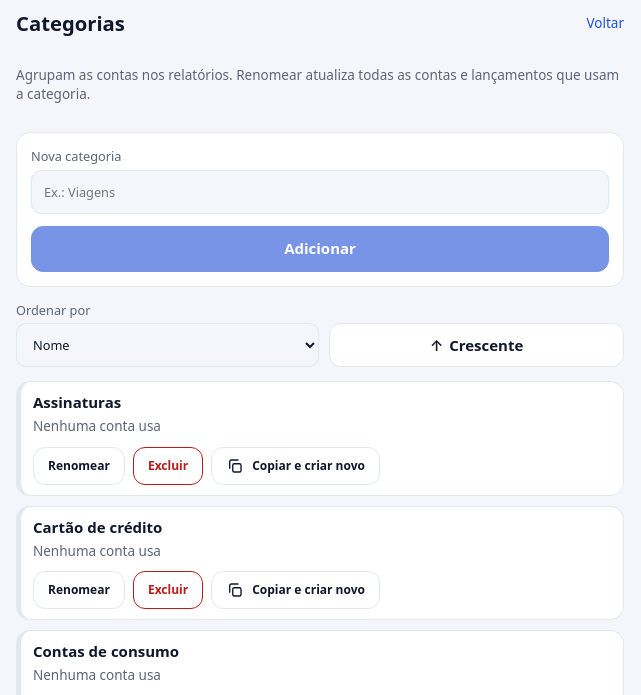
Categorias › recusa nome repetido e vazio, sem gravar nada
Expected: the button "Adicionar" is disabled, left=31, top=226, right=609, bottom=272
Type "pets" into the field labelled "Nova categoria".
click(320, 192); type("pets")  # box left=31, top=170, right=609, bottom=214
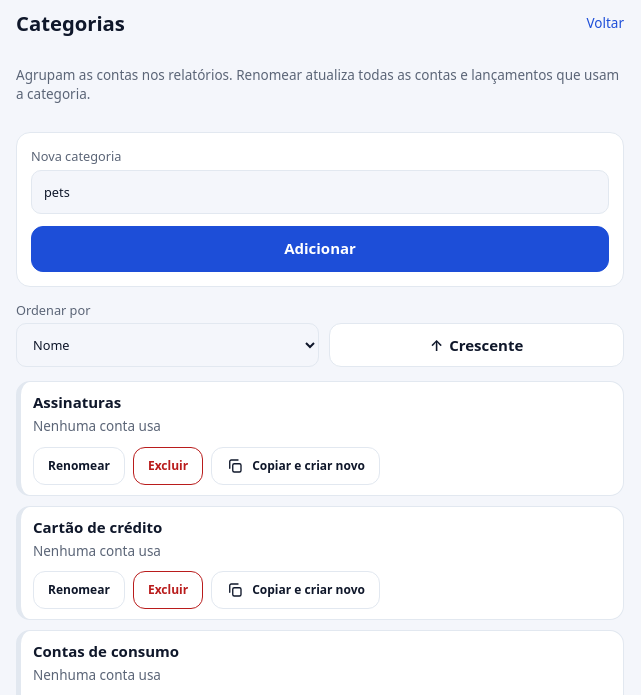
Click the button "Adicionar".
click(320, 249)  # box left=31, top=226, right=609, bottom=272
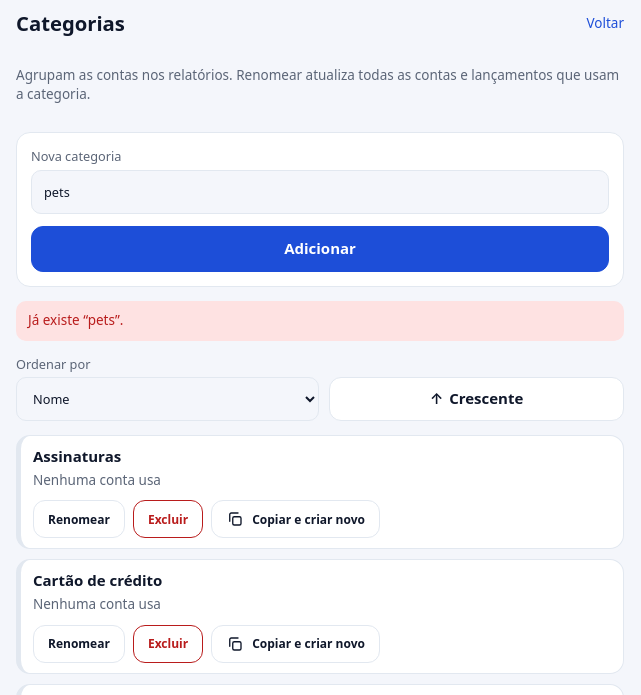
Expected: the message reads "Já existe “pets”.", left=28, top=311, right=123, bottom=329
